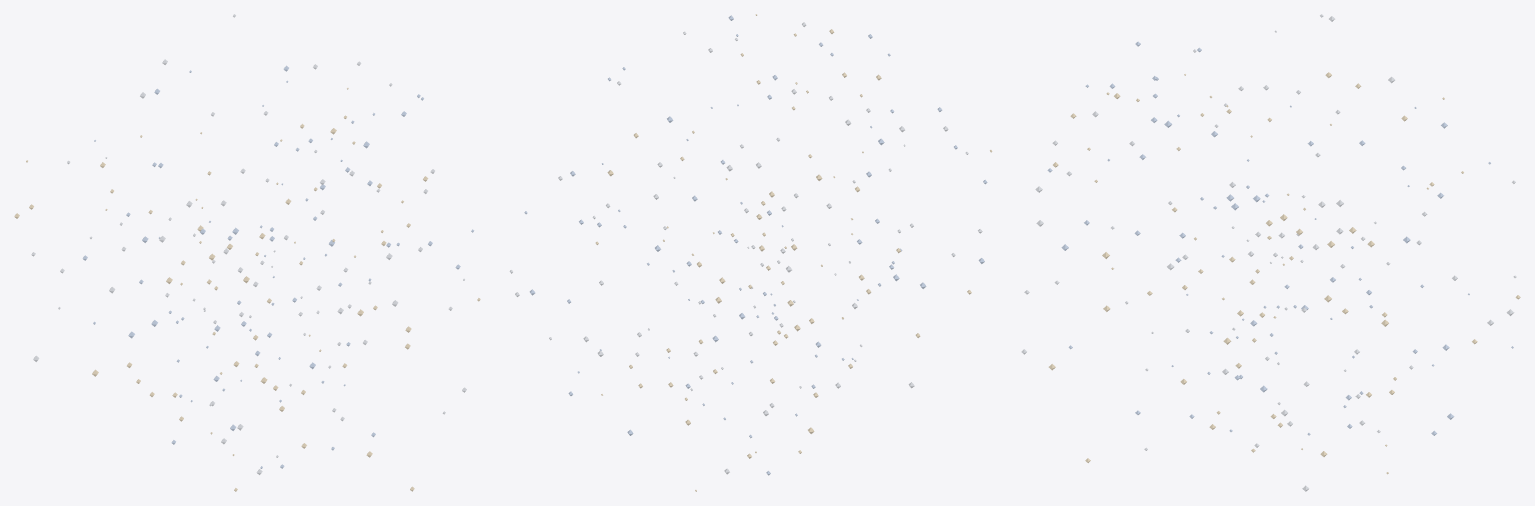
The picture shows the model from 3 angles, left to right: view 1: azimuth 30°, elevation 25°; view 2: azimuth 150°, elevation 25°; view 3: azimuth 270°, elevation 25°; orthographic projection. The views are drawn at different scales.
Bounding box in the file's own units: 4.78 × 4.96 × 4.79.
